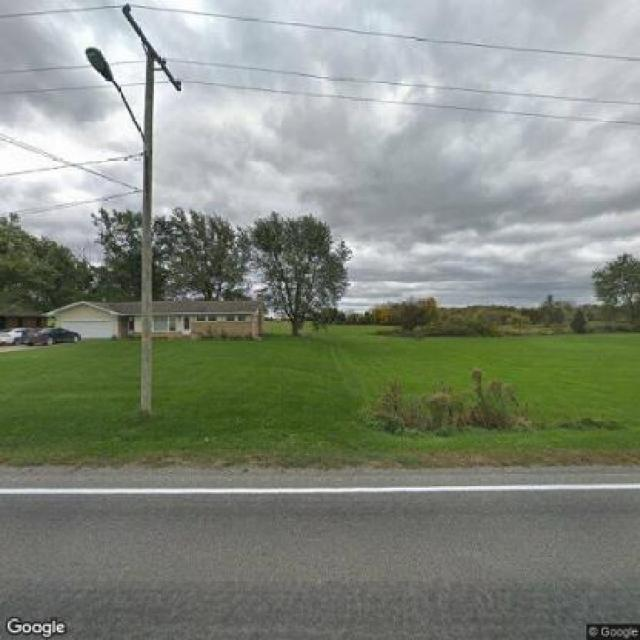pole: (120, 1, 189, 422)
